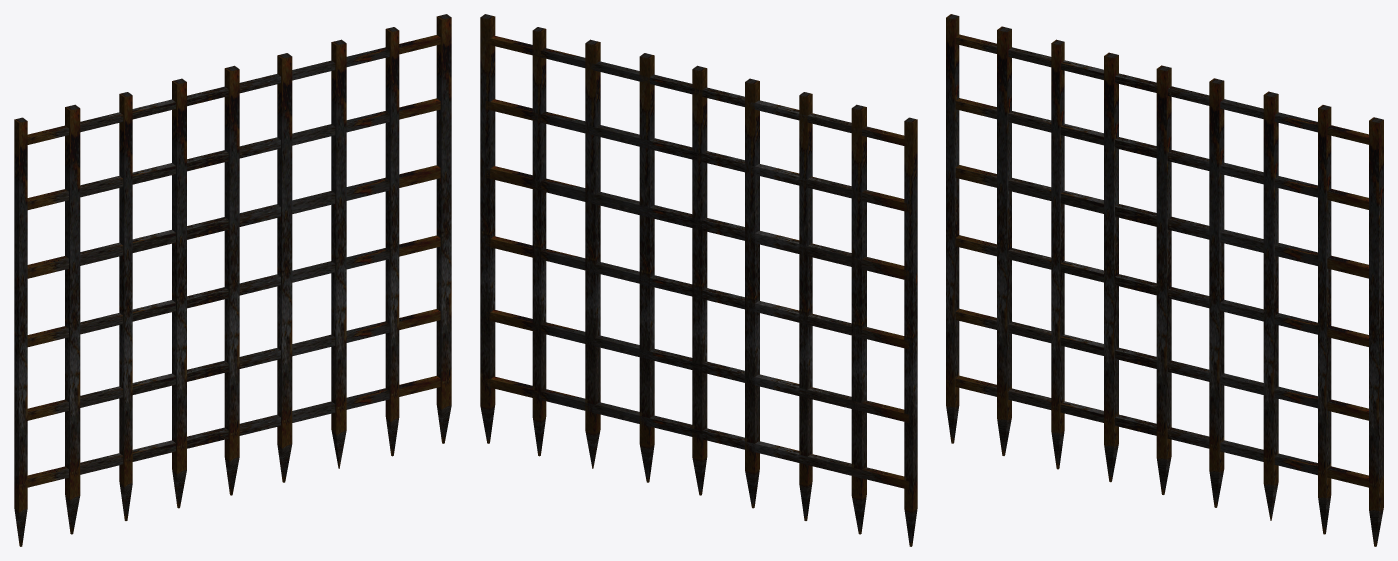
The model's file is hek.obj.
The picture shows the model from 3 angles, left to right: view 1: azimuth 30°, elevation 25°; view 2: azimuth 150°, elevation 25°; view 3: azimuth 330°, elevation 25°; orthographic projection.
Parts seen in each view (by area): view 1: Group; view 2: Group; view 3: Group.
Part boxes in pixels (box(x1,y1,x2,y2)): Group: box(14, 14, 451, 546); Group: box(480, 14, 917, 546); Group: box(946, 14, 1383, 546).
Size of the model in its own units: 81.75 by 76.94 by 1.6.
